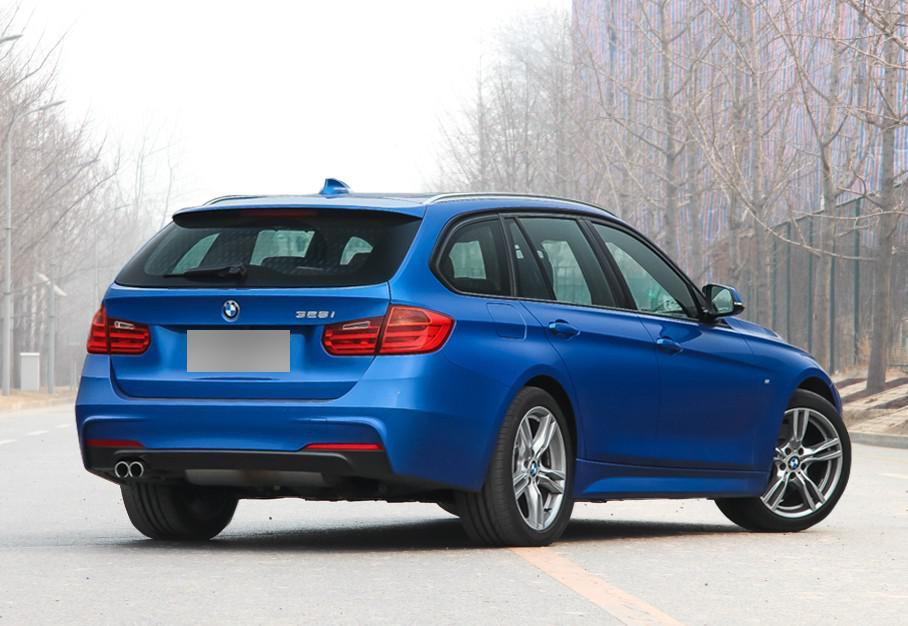Wagon: (76, 176, 853, 547)
